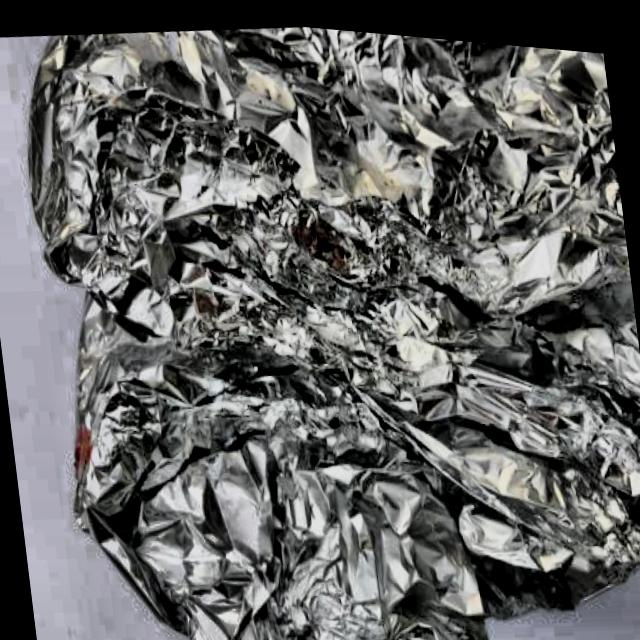Foil: (2, 0, 640, 640)
